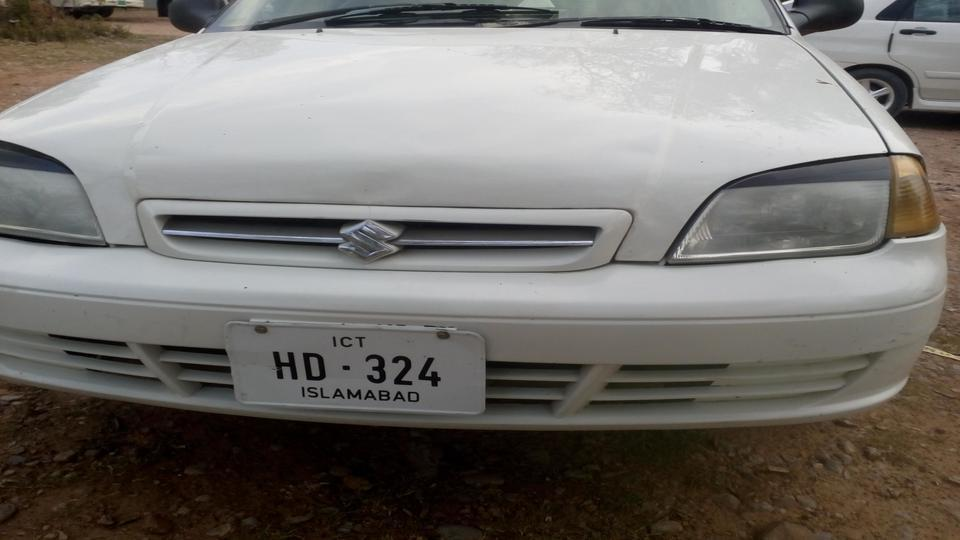NumberPlate: (224, 322, 494, 422)
